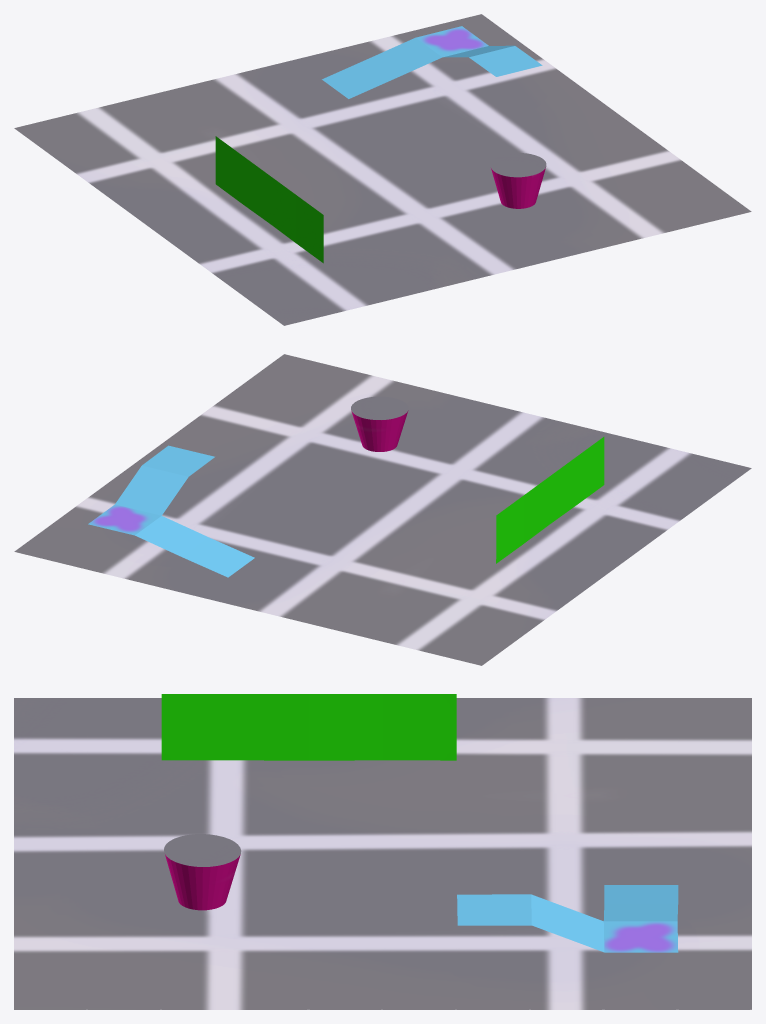
The picture shows the model from 3 angles, top to bottom: view 1: azimuth 30°, elevation 25°; view 2: azimuth 150°, elevation 25°; view 3: azimuth 270°, elevation 25°; orthographic projection. The views are drawn at different scales.
Parts seen in each view (by area): view 1: Grid; view 2: Grid; view 3: Grid.
Boxes of the visible parts, x1,y1,x2,y2 form: Grid: (14, 14, 751, 325); Grid: (14, 354, 751, 665); Grid: (14, 694, 751, 1009).
Bounding box in the file's own units: 50 × 4.96 × 50.
1 material, 1 textured.
